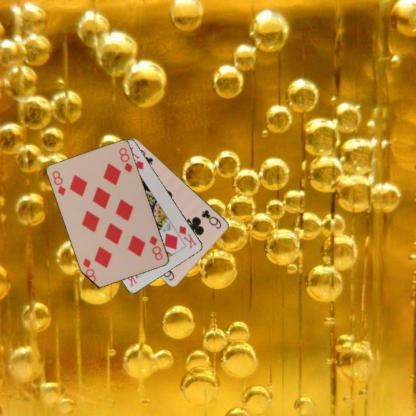6c: (199, 207, 223, 230)
8d: (147, 233, 164, 262), (50, 168, 67, 197)
Kd: (176, 223, 198, 250)
